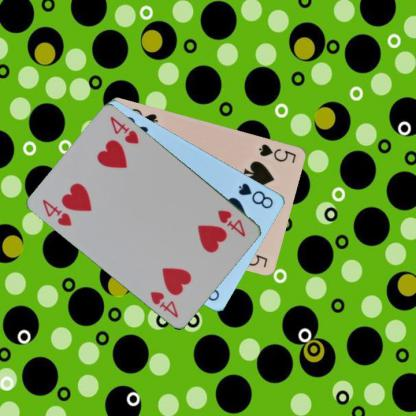4h: (40, 196, 73, 228), (216, 207, 247, 238)
5s: (256, 141, 298, 165)
8s: (236, 180, 275, 210)
